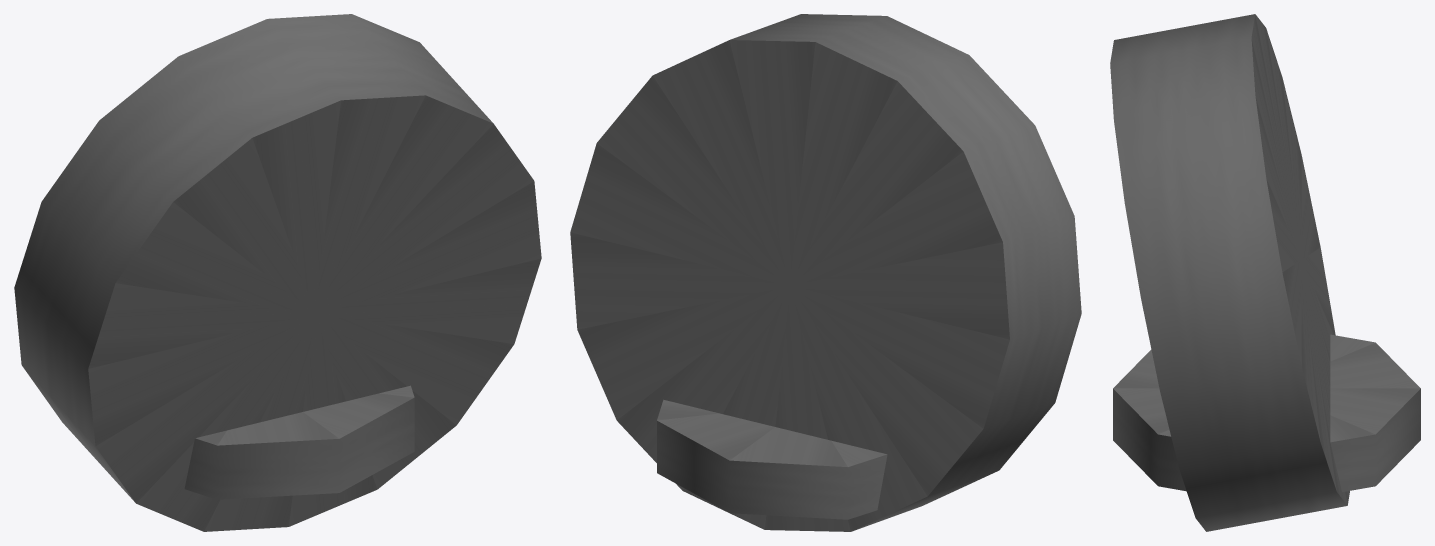
Rendered from mastarmcurve_5x1_c3_down.obj.
The picture shows the model from 3 angles, left to right: view 1: azimuth 30°, elevation 25°; view 2: azimuth 150°, elevation 25°; view 3: azimuth 270°, elevation 25°; orthographic projection. The views are drawn at different scales.
Visible parts, largest first — view 1: mastarm_5x1_c3_down; view 2: mastarm_5x1_c3_down; view 3: mastarm_5x1_c3_down.
Boxes of the visible parts, x1,y1,x2,y2 form: mastarm_5x1_c3_down: [14, 14, 541, 531]; mastarm_5x1_c3_down: [570, 14, 1081, 531]; mastarm_5x1_c3_down: [1110, 14, 1420, 531].
Size of the model in its own units: 0.6507 by 0.675 by 0.4037.
